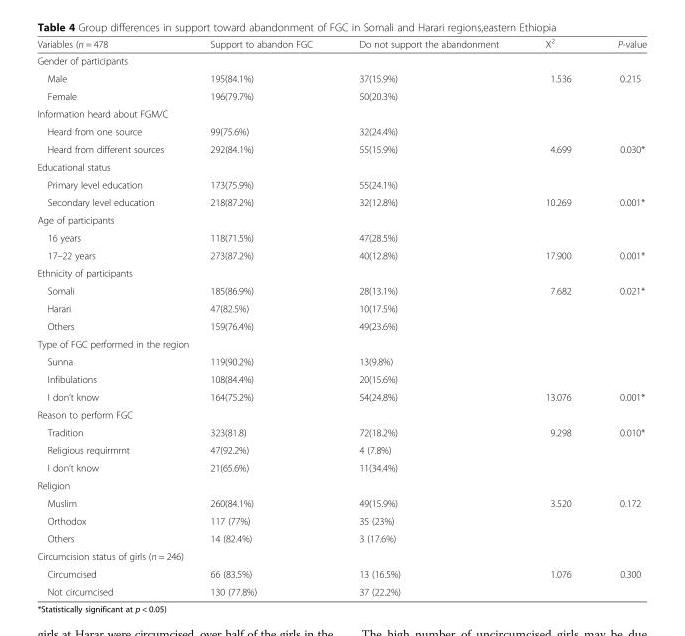table: (36, 36, 646, 596)
table column: (335, 36, 521, 596), (36, 36, 186, 596), (186, 36, 335, 596), (521, 36, 593, 596), (593, 36, 646, 596)
table column header: (36, 36, 646, 52)
table projected row header: (36, 104, 646, 122), (36, 157, 646, 175), (36, 210, 646, 228), (36, 263, 646, 281), (36, 334, 646, 352), (36, 405, 646, 423), (36, 52, 646, 69), (36, 476, 646, 493), (36, 547, 646, 564)
table row: (36, 86, 646, 104), (36, 104, 646, 122), (36, 122, 646, 140), (36, 157, 646, 175), (36, 175, 646, 193), (36, 210, 646, 228), (36, 228, 646, 246), (36, 263, 646, 281), (36, 281, 646, 299), (36, 316, 646, 334), (36, 334, 646, 352), (36, 352, 646, 370), (36, 387, 646, 405), (36, 405, 646, 423), (36, 440, 646, 458), (36, 458, 646, 476), (36, 493, 646, 511), (36, 511, 646, 529), (36, 529, 646, 547), (36, 564, 646, 582), (36, 52, 646, 69), (36, 69, 646, 86), (36, 140, 646, 157), (36, 193, 646, 210), (36, 246, 646, 263), (36, 299, 646, 316), (36, 370, 646, 387), (36, 423, 646, 440), (36, 476, 646, 493), (36, 547, 646, 564), (36, 36, 646, 52), (36, 582, 646, 596)
